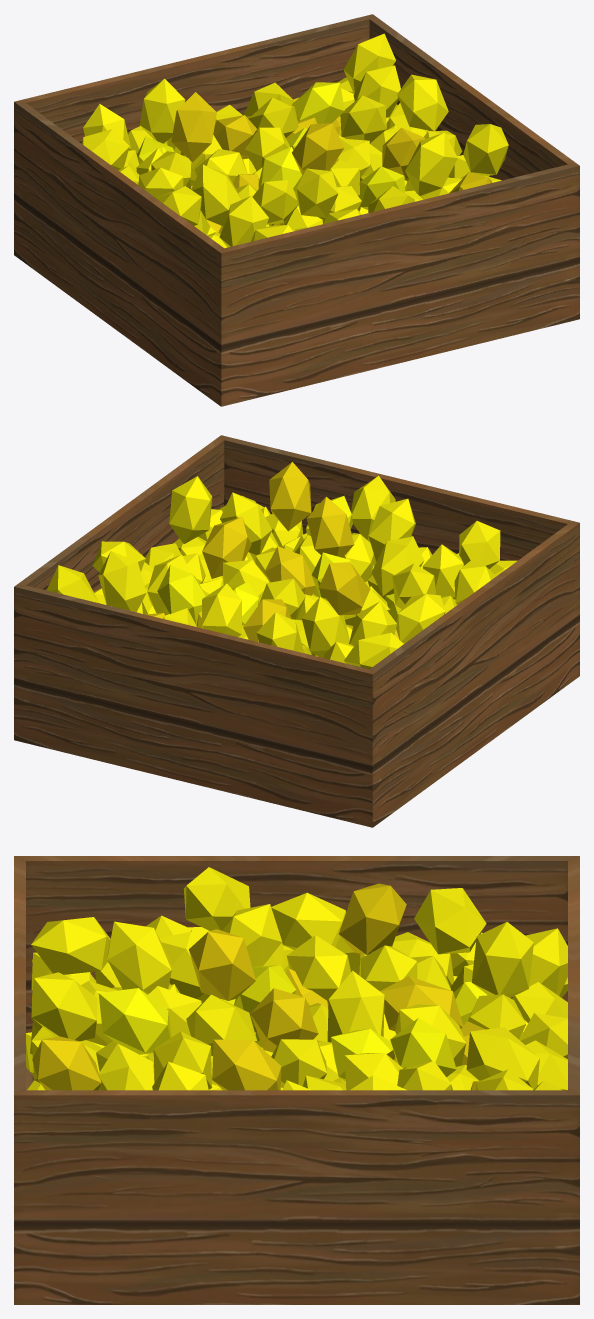
The model's file is LemonBox1.fbx.
3 renders of one model, top to bottom at view 1: azimuth 30°, elevation 25°; view 2: azimuth 150°, elevation 25°; view 3: azimuth 270°, elevation 25°, orthographic. The views are drawn at different scales.
Visible parts, largest first — view 1: Cube, Icosphere.001, Icosphere; view 2: Cube, Icosphere.001; view 3: Cube, Icosphere.001, Icosphere.
Part boxes in pixels (x1=…): Cube: x1=14, y1=14, x2=579, y2=406; Icosphere.001: x1=81, y1=33, x2=508, y2=248; Icosphere: x1=164, y1=117, x2=397, y2=235; Cube: x1=14, y1=435, x2=579, y2=827; Icosphere.001: x1=46, y1=462, x2=517, y2=669; Cube: x1=14, y1=856, x2=579, y2=1304; Icosphere.001: x1=31, y1=867, x2=567, y2=1090; Icosphere: x1=26, y1=968, x2=528, y2=1090.
Size of the model in its own units: 200 by 99.69 by 200.
